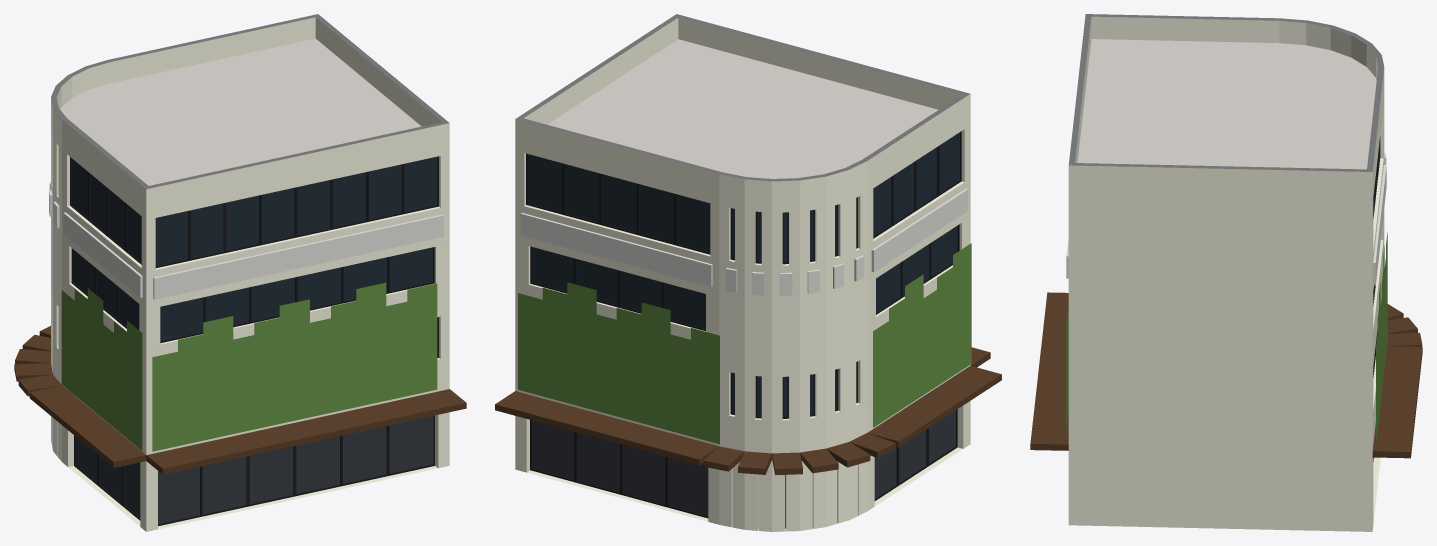
Rendered from yakitori525.glb.
3 views of the same model, side by side, from view 1: azimuth 30°, elevation 25°; view 2: azimuth 150°, elevation 25°; view 3: azimuth 270°, elevation 25° (orthographic). The views are drawn at different scales.
Parts seen in each view (by area): view 1: yakitori525; view 2: yakitori525; view 3: yakitori525.
Boxes of the visible parts, x1,y1,x2,y2 form: yakitori525: [14, 14, 466, 531]; yakitori525: [495, 14, 1001, 531]; yakitori525: [1030, 14, 1422, 531].
Size of the model in its own units: 15.12 by 14.5 by 14.32.
